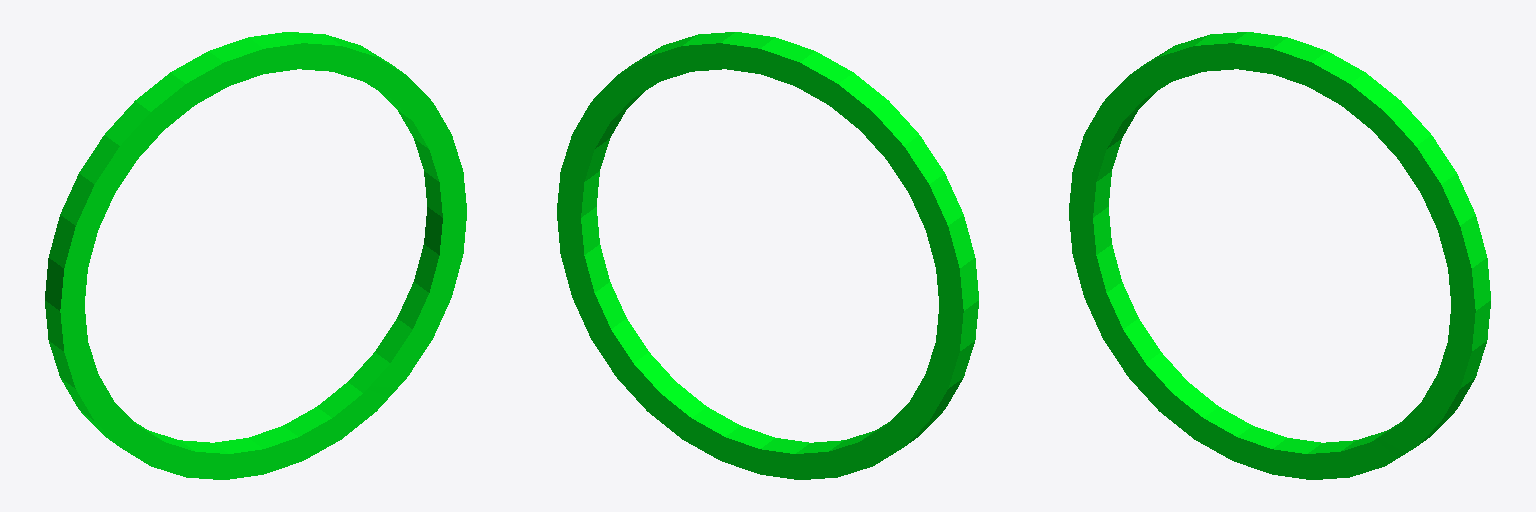
The picture shows the model from 3 angles: view 1: azimuth 30°, elevation 25°; view 2: azimuth 150°, elevation 25°; view 3: azimuth 330°, elevation 25°; orthographic projection.
Visible parts, largest first — view 1: Cylinder; view 2: Cylinder; view 3: Cylinder.
Part boxes in pixels (left/top/right/bottom): Cylinder: left=45, top=32, right=466, bottom=479; Cylinder: left=557, top=32, right=978, bottom=479; Cylinder: left=1069, top=32, right=1490, bottom=479.
Size of the model in its own units: 12 by 12 by 0.8.
1 materials, 1 textured.